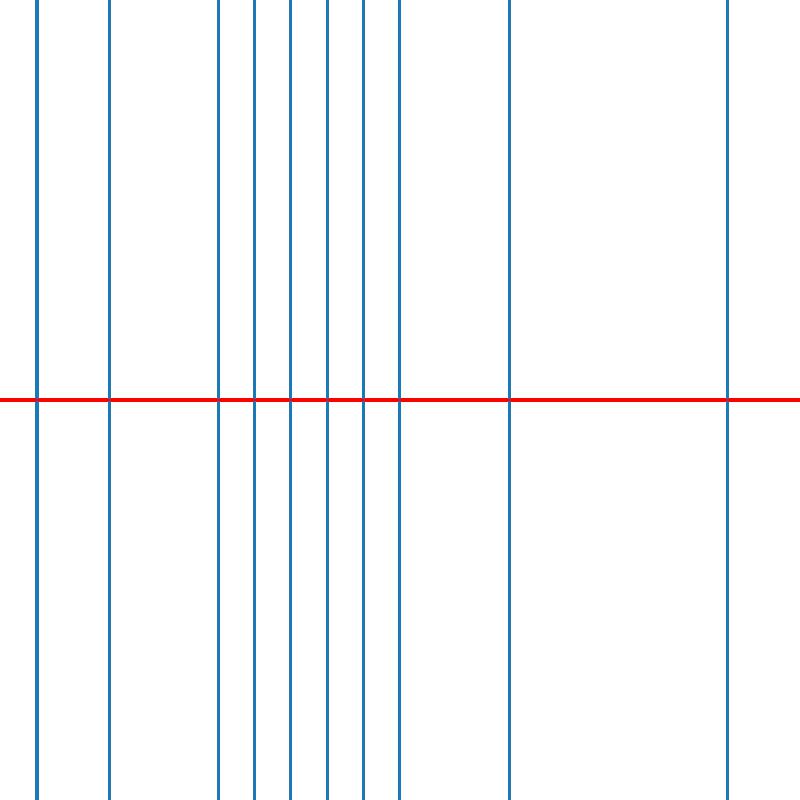root: (32, 396, 40, 404), (250, 396, 258, 404), (105, 396, 112, 404), (723, 396, 730, 404), (287, 396, 294, 404), (360, 396, 367, 404), (396, 396, 403, 404), (214, 396, 221, 404), (505, 396, 512, 404), (323, 396, 330, 404)
